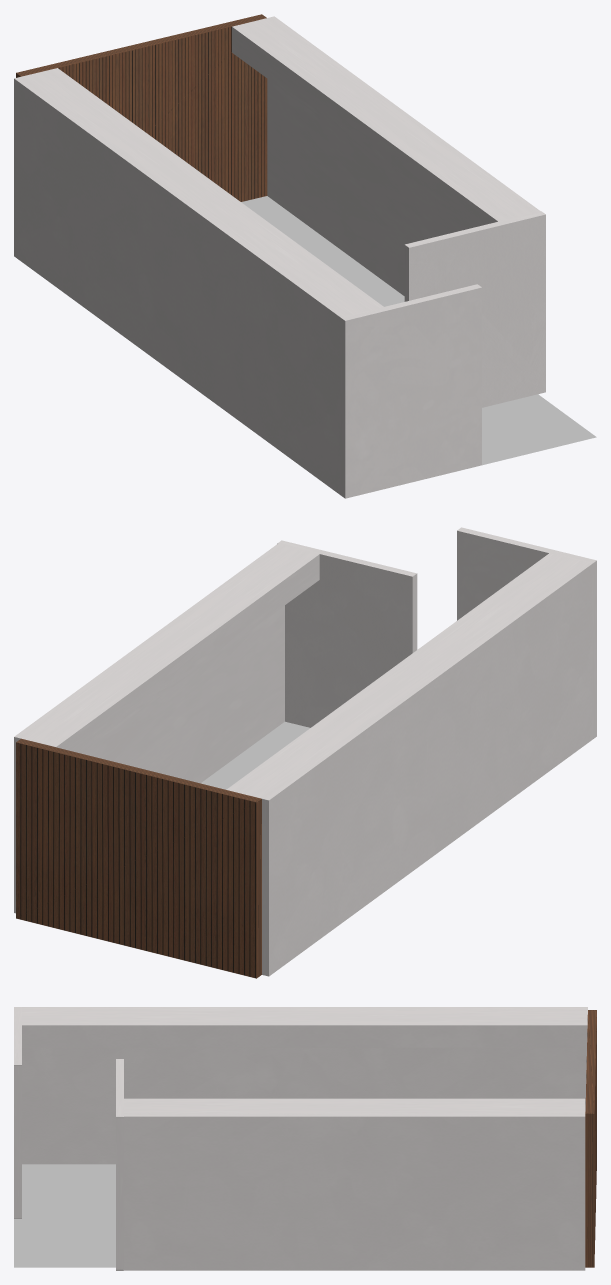
The model's file is XRMuseum Blender.fbx.
3 renders of one model, top to bottom at view 1: azimuth 30°, elevation 25°; view 2: azimuth 150°, elevation 25°; view 3: azimuth 270°, elevation 25°, orthographic. The views are drawn at different scales.
Visible parts, largest first — view 1: wall 2, wall 1, wall 4, wall 5, wall 3, Floor; view 2: wall 2, wall 5, wall 1, wall 3, wall 4, Floor; view 3: wall 1, wall 2, Floor, wall 5, wall 3, wall 4.
Boxes of the visible parts, x1,y1,x2,y2 form: wall 2: (14,68,383,494); wall 1: (232,16,540,295); wall 4: (340,284,481,498); wall 5: (16,14,267,201); wall 3: (404,211,545,407); Floor: (241,196,596,465); wall 2: (226,553,592,976); wall 5: (16,738,261,978); wall 1: (14,544,319,913); wall 3: (277,540,417,727); wall 4: (457,527,596,739); Floor: (201,721,309,789); wall 1: (124,1098,585,1270); wall 2: (22,1007,587,1164); Floor: (14,1164,115,1267); wall 5: (585,1010,596,1267); wall 3: (116,1059,123,1270); wall 4: (14,1007,21,1218).
Size of the model in its own units: 412 by 270 by 926.
